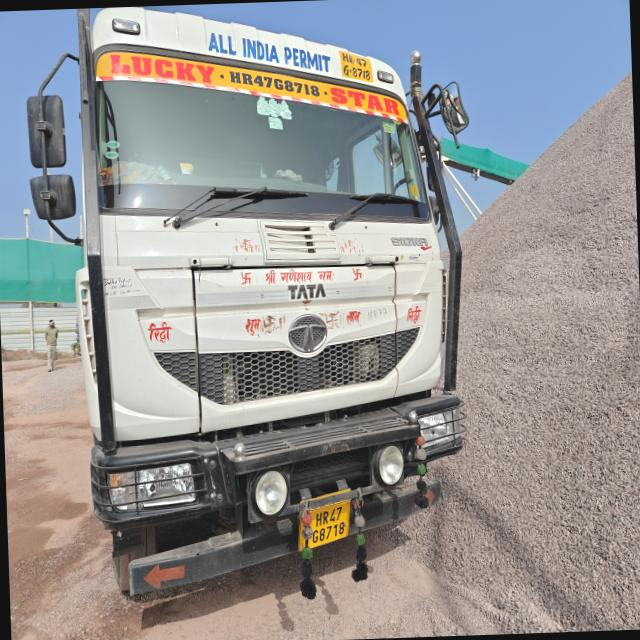license_plate: (308, 501, 350, 548), (340, 51, 373, 83)
